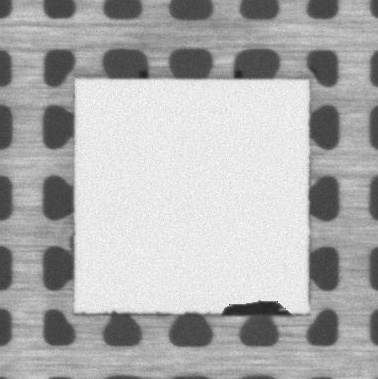DIE_BROKEN: (213, 299, 295, 319)
